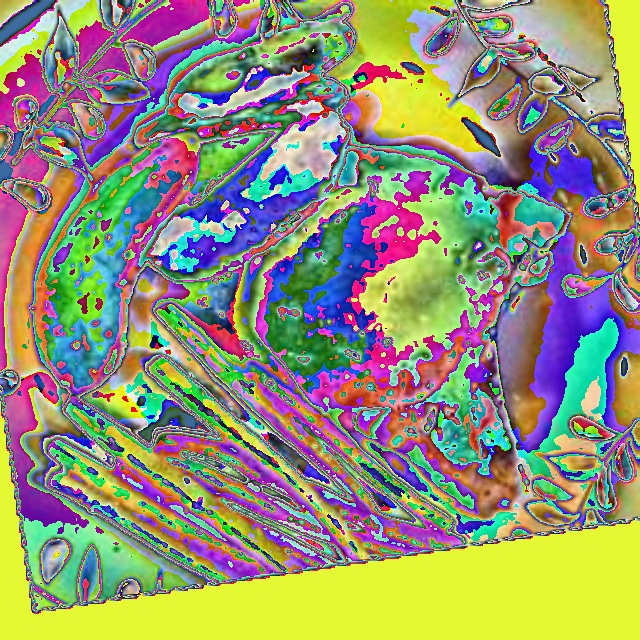background: (35, 18, 572, 582)
